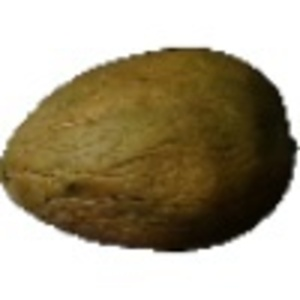mamão: (4, 39, 293, 259)
